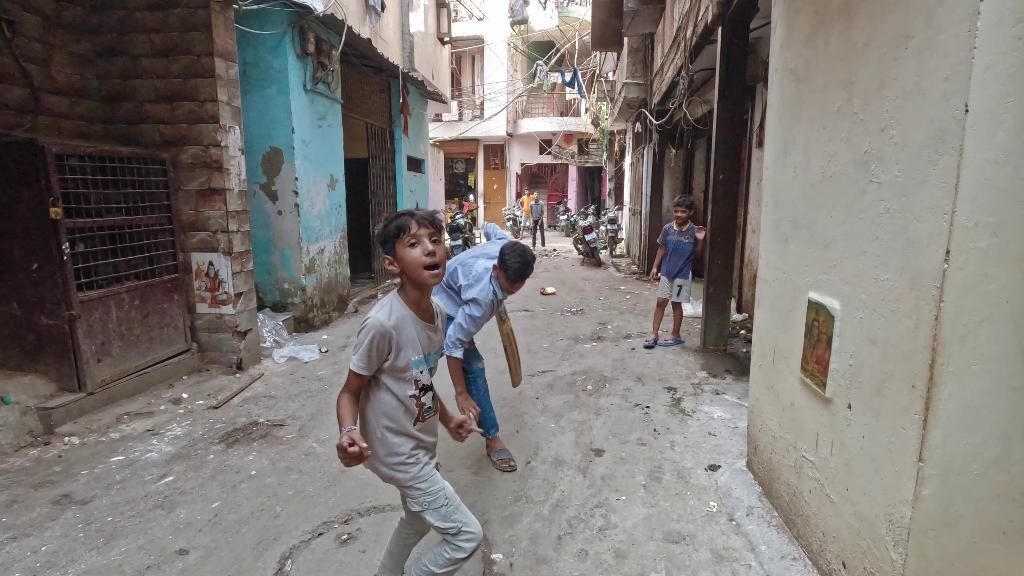garbage: (257, 311, 301, 348), (273, 341, 326, 365), (540, 286, 556, 295)
